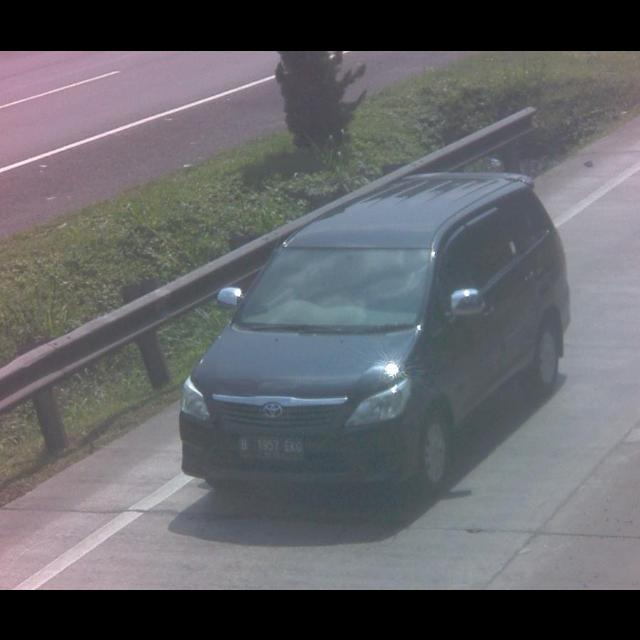plate: (238, 430, 308, 464)
